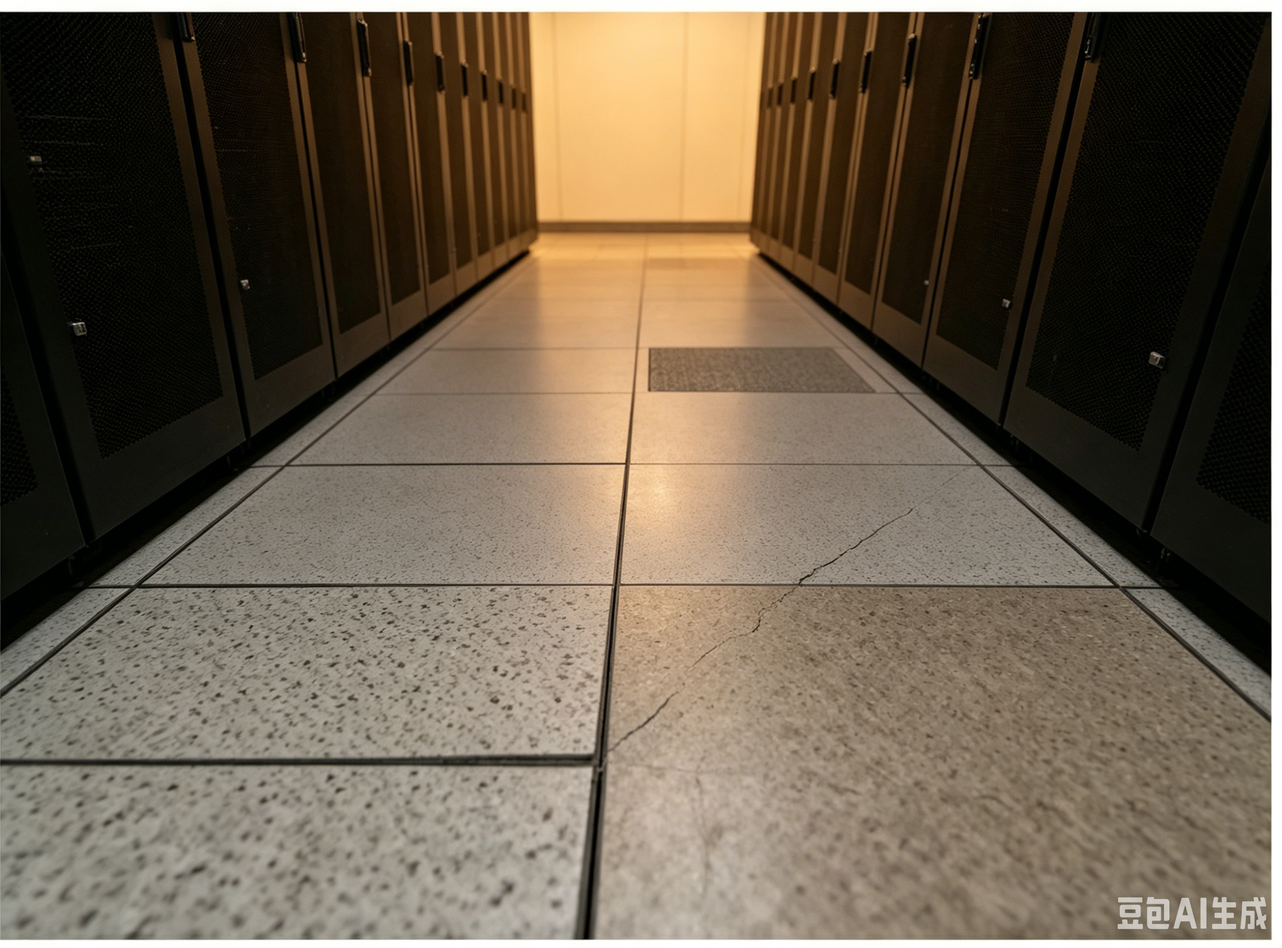floor_defect: (72, 738, 653, 792), (579, 572, 646, 773), (553, 795, 627, 938), (771, 550, 852, 615), (703, 589, 776, 656), (648, 651, 703, 720), (849, 503, 914, 548)
